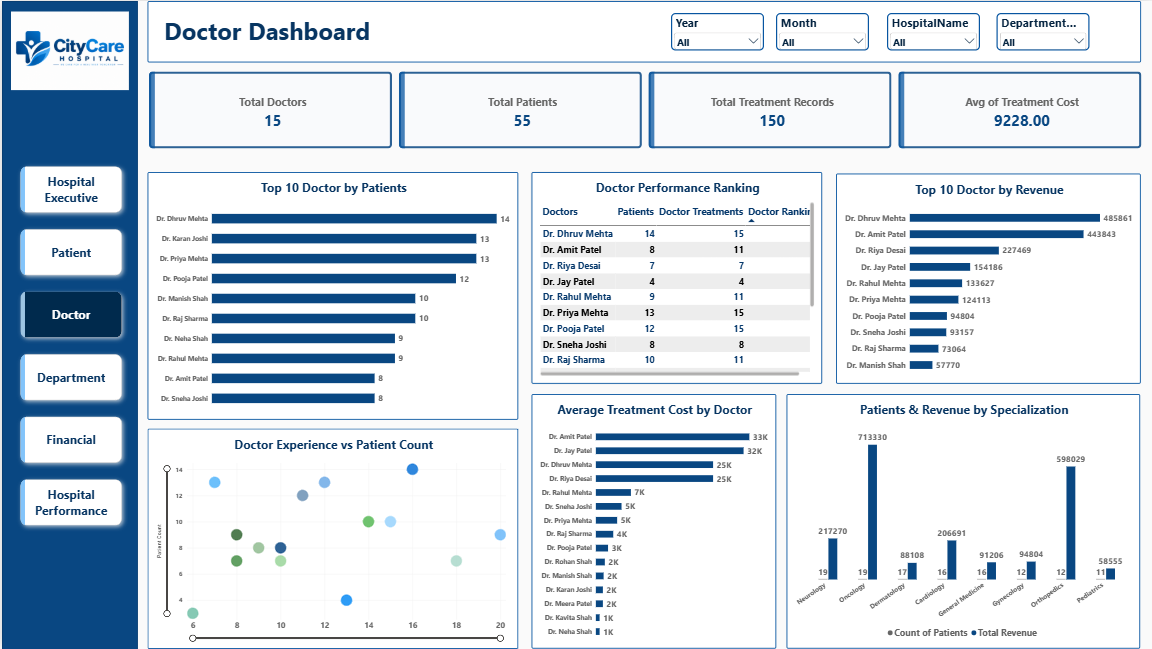

The dashboard page shown, as its layout file describes it:
{"tool":"powerbi","page":{"name":"Doctor","canvas":[2560,1440],"ordinal":2},"visuals":[{"type":"shape","box":[324.5,0,2207.8,136.8],"z":0},{"type":"cardVisual","fields":{"Data":["Doctors.Total Doctors","Count(Medical Transactions.PatientID)","Treatments.Total Treatment Records","Avg(Medical Transactions.TreatmentCost)"]},"box":[327.1,155.4,2205.4,171.6],"z":1000},{"type":"clusteredBarChart","title":"Average Treatment Cost by Doctor","fields":{"Category":["Doctors.DoctorName"],"Y":["Avg(Medical Transactions.TreatmentCost)"]},"box":[1177.1,874.8,544,566.3],"z":2000},{"type":"barChart","title":"Top 10 Doctor by Revenue","fields":{"Category":["Doctors.DoctorName"],"Y":["Medical Transactions.Total Revenue"]},"box":[1854.7,381.7,677.6,467.6],"z":3000},{"type":"textbox","box":[359.5,29.1,816.1,84.2],"z":4000},{"type":"slicer","fields":{"Values":["Medical Transactions.AdmissionDate.Variation.Date Hierarchy.Year"]},"box":[1486.7,26.7,206.7,83.3],"z":5000},{"type":"clusteredBarChart","title":"Top 10 Doctor by Patients","fields":{"Category":["Doctors.DoctorName"],"Y":["Count(Medical Transactions.PatientID)"]},"box":[324.5,378.6,823.9,550.4],"z":6000},{"type":"tableEx","title":"Doctor Performance Ranking","fields":{"Values":["Doctors.DoctorName","Medical Transactions.PatientID","Medical Transactions.Doctor Treatments","Doctors.Doctor Ranking"]},"box":[1177.1,378.6,645.8,470.8],"z":7000},{"type":"slicer","fields":{"Values":["Hospitals.HospitalName"]},"box":[1966.7,26.7,206.7,83.3],"z":8000},{"type":"slicer","fields":{"Values":["Medical Transactions.AdmissionDate.Variation.Date Hierarchy.Month"]},"box":[1720,26.7,206.7,83.3],"z":9000},{"type":"slicer","fields":{"Values":["Departments.DepartmentName"]},"box":[2210,26.7,206.7,83.3],"z":10000},{"type":"shape","box":[0,0,302.2,1441.1],"z":11000},{"type":"pageNavigator","box":[25.4,353.1,254.5,830.3],"z":12000},{"type":"image","box":[0,22.3,302.2,175],"z":13000},{"type":"clusteredColumnChart","title":"Patients & Revenue by Specialization","fields":{"Category":["Doctors.Specialization"],"Y":["Count(Medical Transactions.PatientID)","Medical Transactions.Total Revenue"]},"box":[1743.3,874.8,785.8,566.3],"z":14000},{"type":"scatterChart","title":"Doctor Experience vs Patient Count","fields":{"X":["Doctors.Experience"],"Y":["Medical Transactions.Patient Count"],"Series":["Doctors.DoctorName"]},"box":[324.5,951.2,823.9,489.9],"z":15000}]}

Visuals, with their boxes on the page's 2560x1440 design canvas (x1, y1, x2, y2). These are canvas units, not pixel positions in the 1152x649 screenshot, which may show the page scaled, cropped or inside an application window:
shape: [x1=324, y1=0, x2=2532, y2=137]
cardVisual - Doctors.Total Doctors x Count(Medical Transactions.PatientID): [x1=327, y1=155, x2=2532, y2=327]
"Average Treatment Cost by Doctor" clusteredBarChart: [x1=1177, y1=875, x2=1721, y2=1441]
"Top 10 Doctor by Revenue" barChart: [x1=1855, y1=382, x2=2532, y2=849]
textbox: [x1=360, y1=29, x2=1176, y2=113]
slicer - Medical Transactions.AdmissionDate.Variation.Date Hierarchy.Year: [x1=1487, y1=27, x2=1693, y2=110]
"Top 10 Doctor by Patients" clusteredBarChart: [x1=324, y1=379, x2=1148, y2=929]
"Doctor Performance Ranking" tableEx: [x1=1177, y1=379, x2=1823, y2=849]
slicer - Hospitals.HospitalName: [x1=1967, y1=27, x2=2173, y2=110]
slicer - Medical Transactions.AdmissionDate.Variation.Date Hierarchy.Month: [x1=1720, y1=27, x2=1927, y2=110]
slicer - Departments.DepartmentName: [x1=2210, y1=27, x2=2417, y2=110]
shape: [x1=0, y1=0, x2=302, y2=1441]
pageNavigator: [x1=25, y1=353, x2=280, y2=1183]
image: [x1=0, y1=22, x2=302, y2=197]
"Patients & Revenue by Specialization" clusteredColumnChart: [x1=1743, y1=875, x2=2529, y2=1441]
"Doctor Experience vs Patient Count" scatterChart: [x1=324, y1=951, x2=1148, y2=1441]
